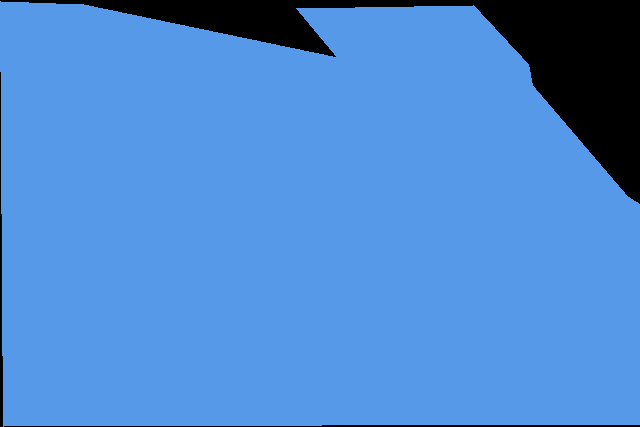Airplane: (0, 1, 640, 426)
